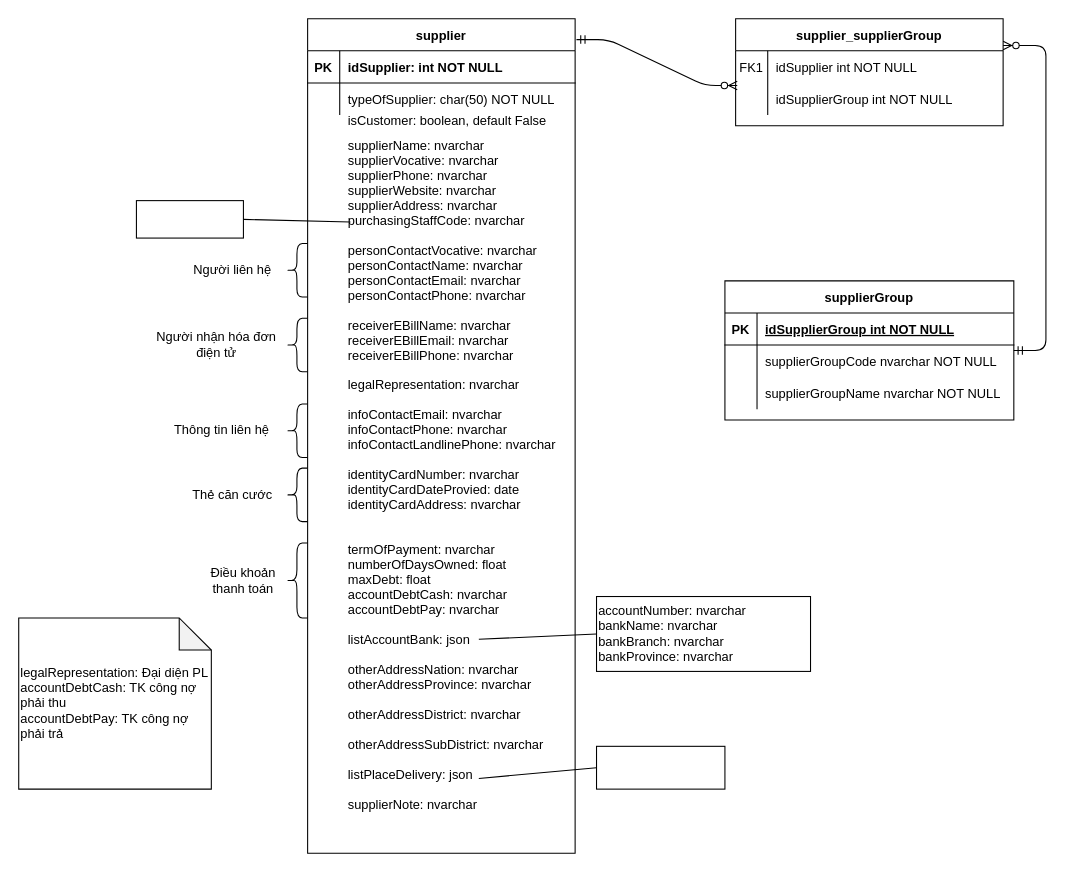
This 1074x875 diagram has some shape labels left out. Here are the shapes that lost their labels. From the top down, the centre of each, then its label:
the point at 189,219: Mã nhân viên mua hàng
the point at 660,767: [ Danh sách địa chỉ ]
